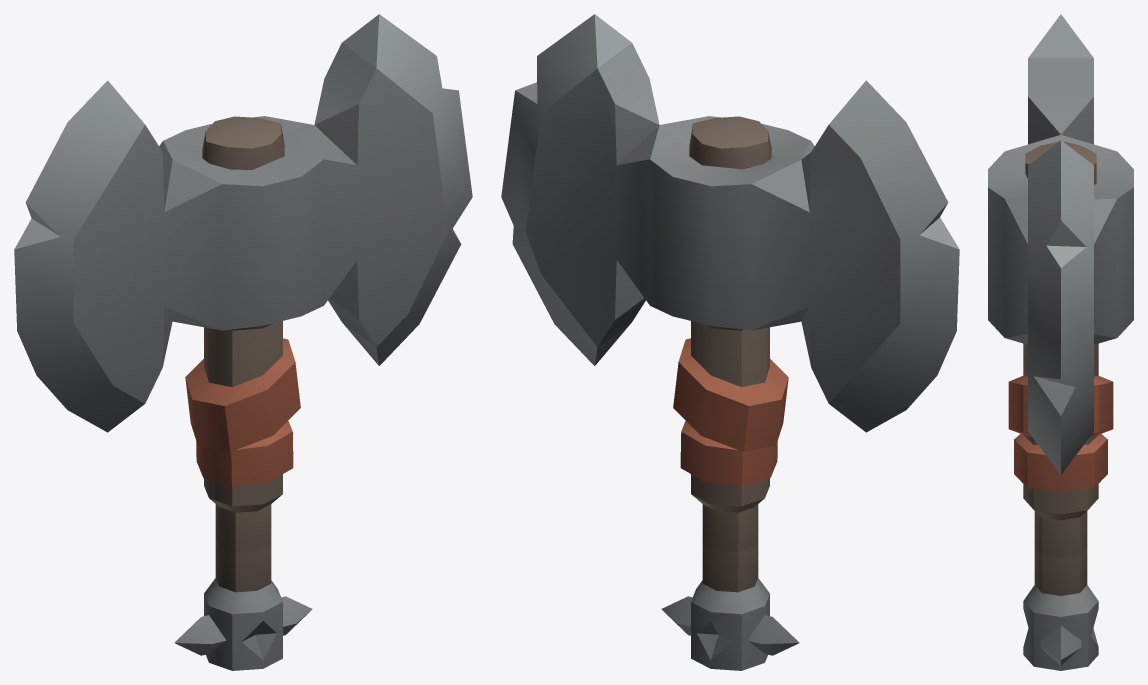
Rendered from Skeleton_Axe.glb.
3 views of the same model, side by side, from view 1: azimuth 30°, elevation 25°; view 2: azimuth 150°, elevation 25°; view 3: azimuth 270°, elevation 25° (orthographic). The views are drawn at different scales.
Size of the model in its own units: 0.9727 by 1.25 by 0.2818.
Materials: 1 (1 with a texture image).
